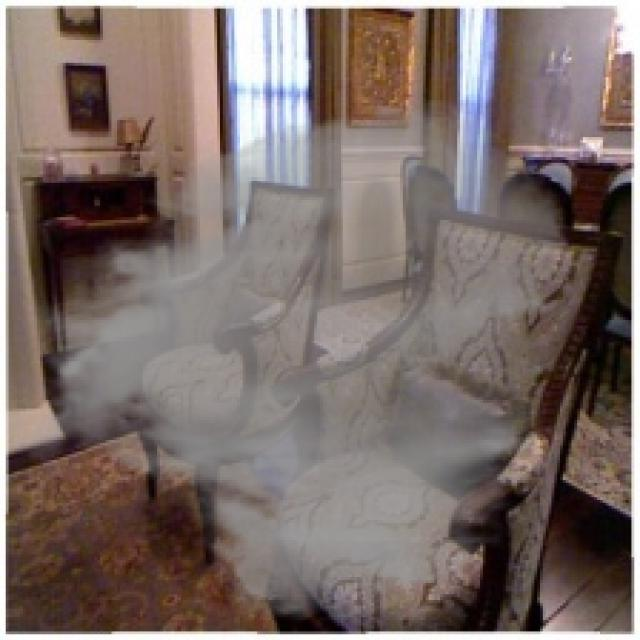smoke: (17, 94, 577, 626)
